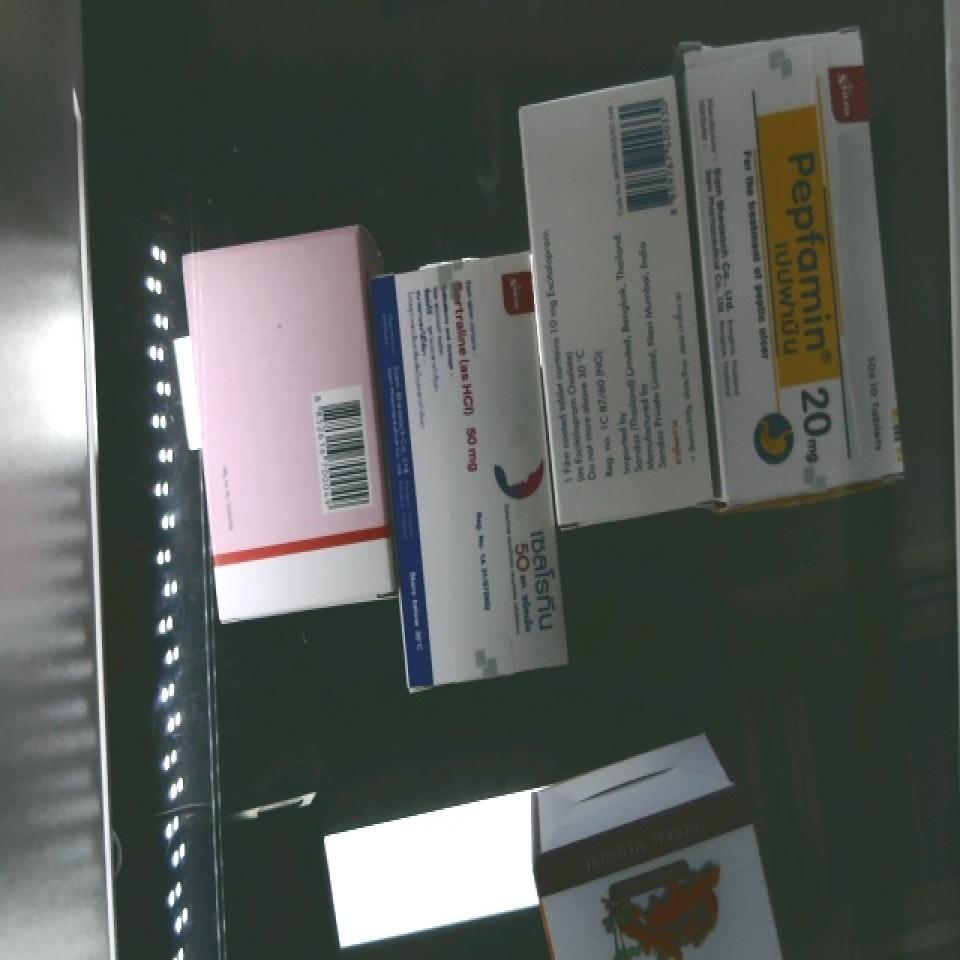medicine_box: (678, 31, 906, 506), (514, 76, 718, 526), (370, 252, 571, 689), (177, 229, 396, 621), (520, 781, 782, 960)
medicine_label_obb: (750, 120, 857, 482), (504, 520, 567, 659)
